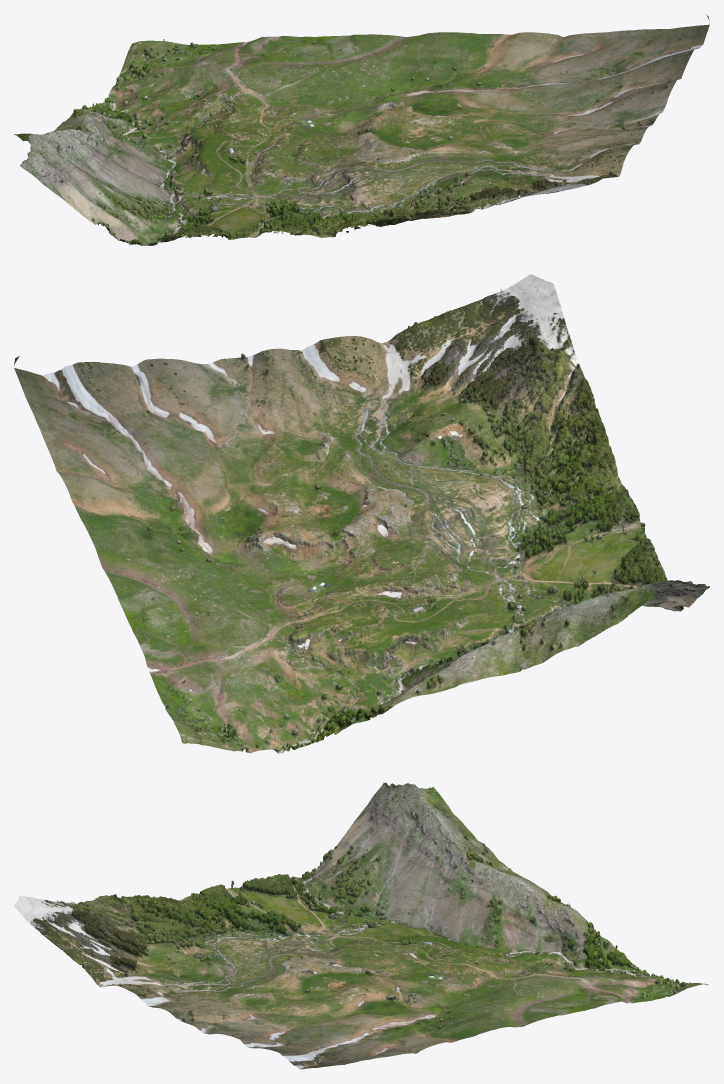
3 renders of one model, top to bottom at view 1: azimuth 30°, elevation 25°; view 2: azimuth 150°, elevation 25°; view 3: azimuth 270°, elevation 25°, orthographic. The views are drawn at different scales.
Visible parts, largest first — view 1: konarli; view 2: konarli; view 3: konarli.
Part boxes in pixels (x1,y1,x2,y2): konarli: [14, 15, 709, 245]; konarli: [14, 274, 709, 753]; konarli: [14, 782, 708, 1069].
Size of the model in its own units: 1402 by 287 by 1411.
12 materials, 12 textured.
